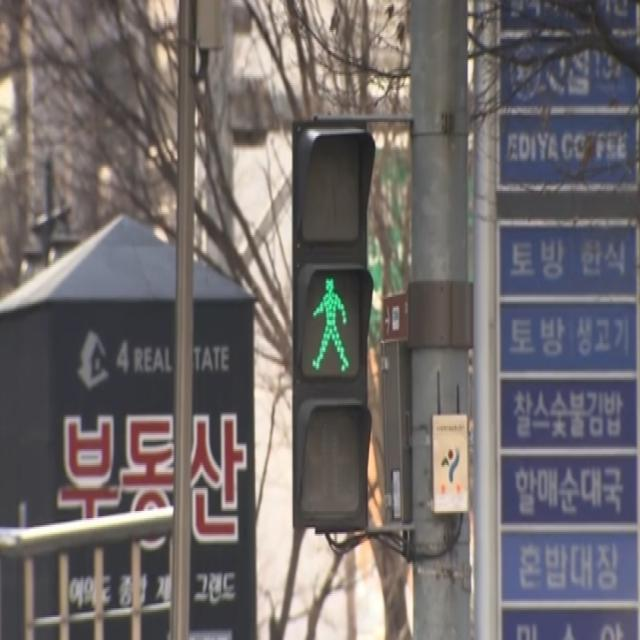green_light: (309, 282, 353, 376)
